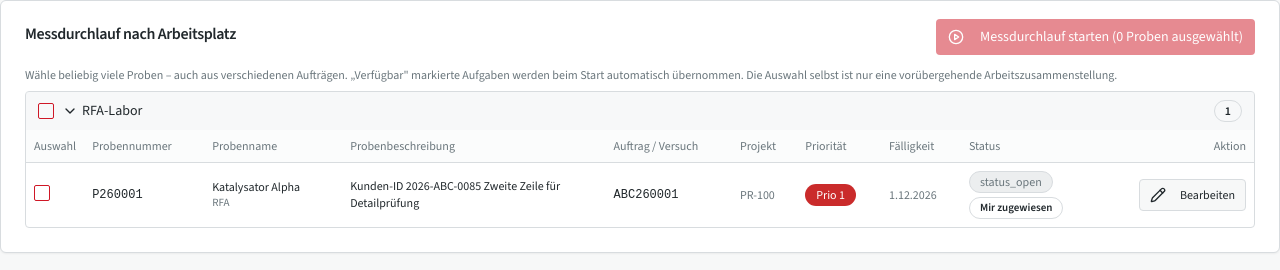
MeasurementRunPicker – Tabelle, Beschreibung, direkte Navigation & Suche › klappt Gruppen bei aktiver Suche automatisch auf, erhält manuelles Zuklappen und stellt Ausgangszustand nach Löschen wieder her
The width and height of the screenshot is (1280, 270).
Expected: the table is shown, x1=26 y1=130 x2=1254 y2=226
Note: Manuelles Zuklappen während Suche funktioniert
What coordinates should you click on to do the following:
click the button "RFA-Labor"
I would click on:
 (112, 110)
Its box is x1=62 y1=101 x2=1206 y2=121.
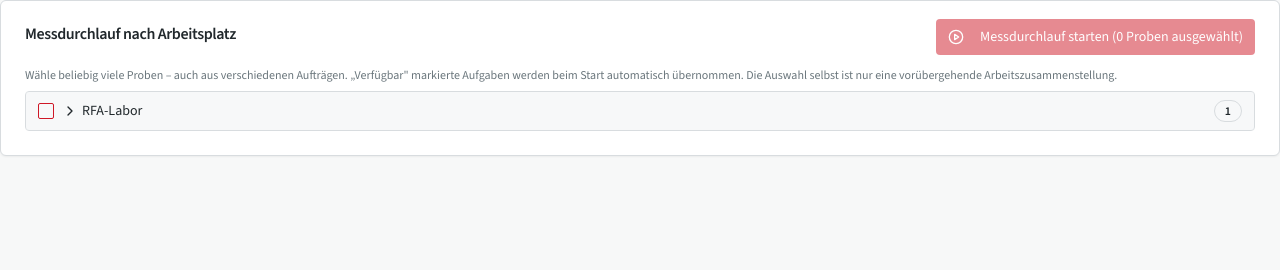
Result: the table is gone
